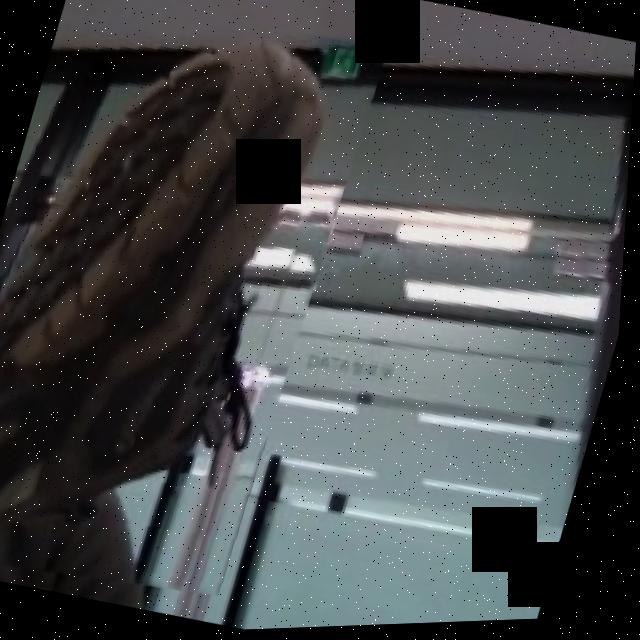shoe: (0, 0, 391, 625)
